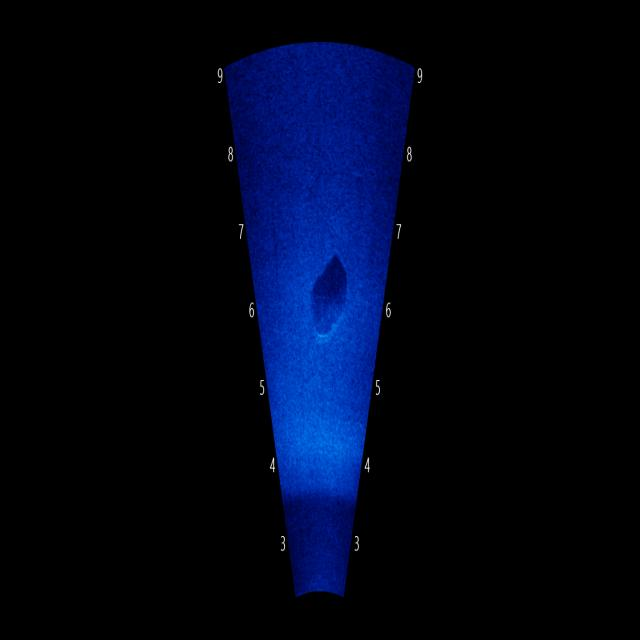square: (299, 229, 361, 373)
